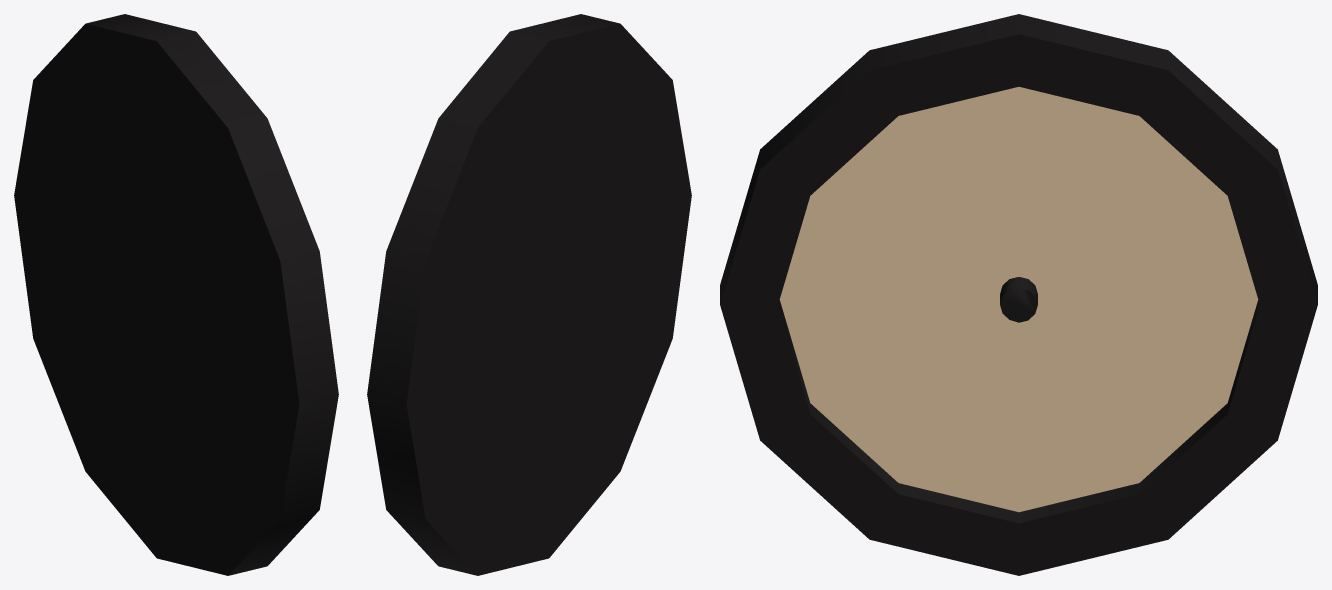
File: Clock_Clock.fbx
3 renders of one model, left to right at view 1: azimuth 30°, elevation 25°; view 2: azimuth 150°, elevation 25°; view 3: azimuth 270°, elevation 25°, orthographic. The views are drawn at different scales.
Parts seen in each view (by area): view 1: Clock.001; view 2: Clock.001; view 3: Clock.001.
Part boxes in pixels (x1,y1,x2,y2): Clock.001: (14,14,338,575); Clock.001: (367,14,691,575); Clock.001: (720,14,1317,575).
Bounding box in the file's own units: 64.25 × 5.27 × 64.25.
